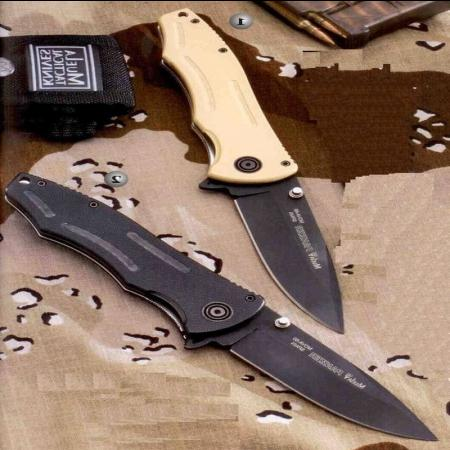long weapon: (182, 296, 442, 442), (196, 163, 353, 338)
